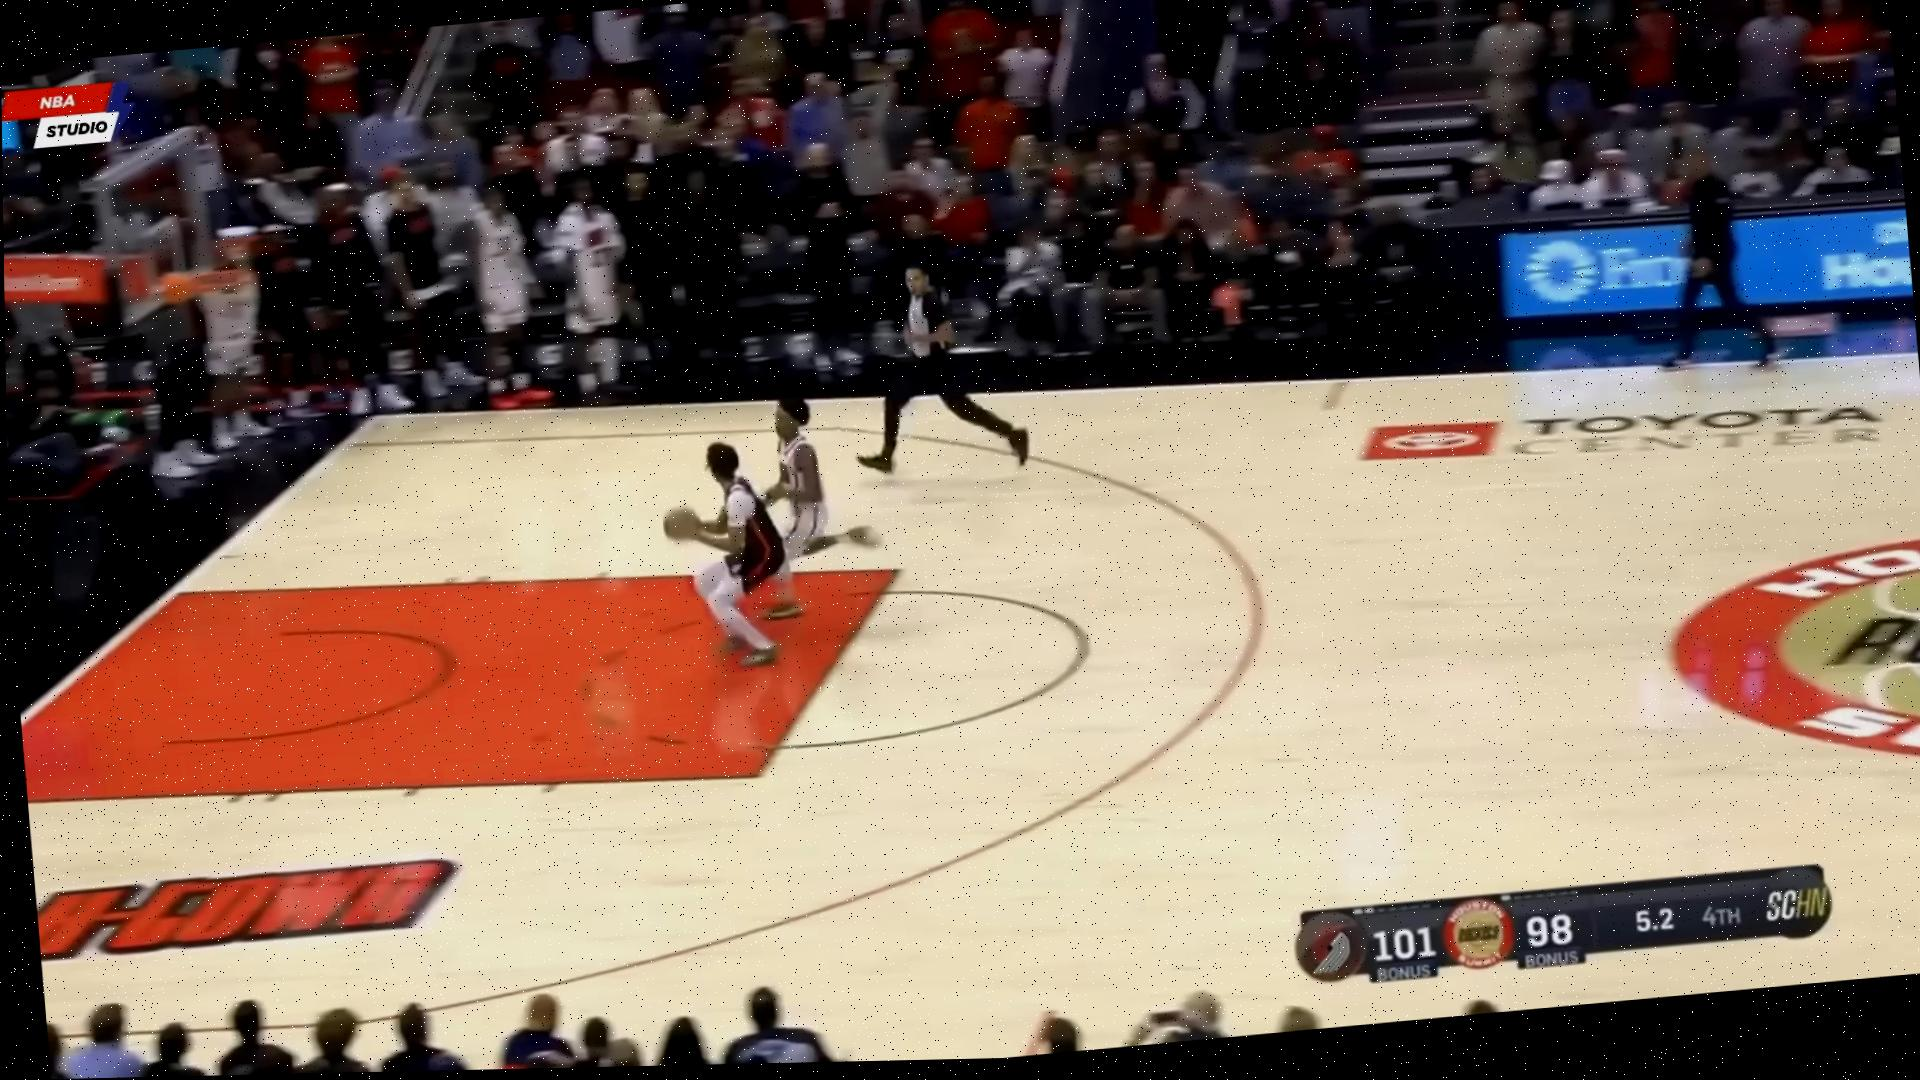no_foul: (607, 361, 905, 677)
